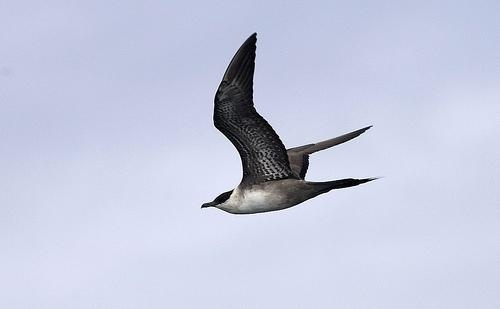bird: (196, 35, 375, 215)
